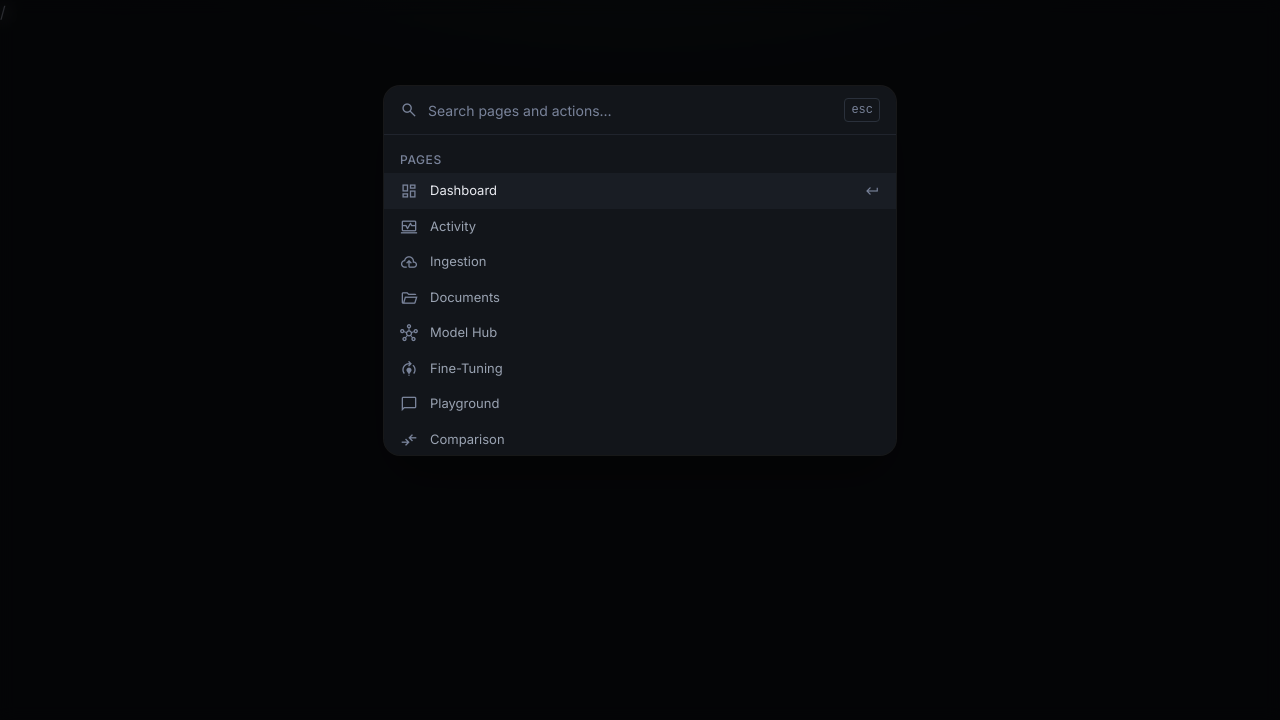
it: CommandPalette › navigates and closes on click
The image size is (1280, 720).
What coordinates should you click on to do the following:
click the option "Playground"
I would click on:
 (465, 403)
Its box is 384,386 -> 896,422.
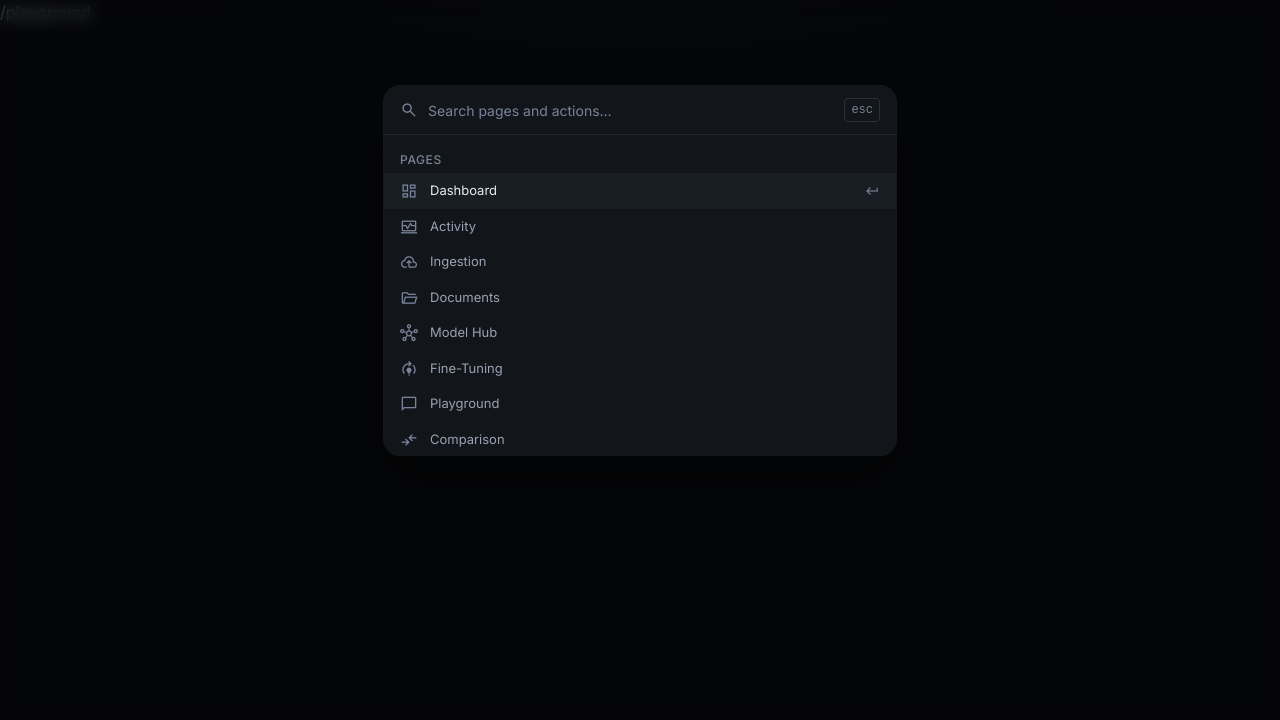
Expected: the text with test id "location" reads "/playground", 0,2 -> 91,22
